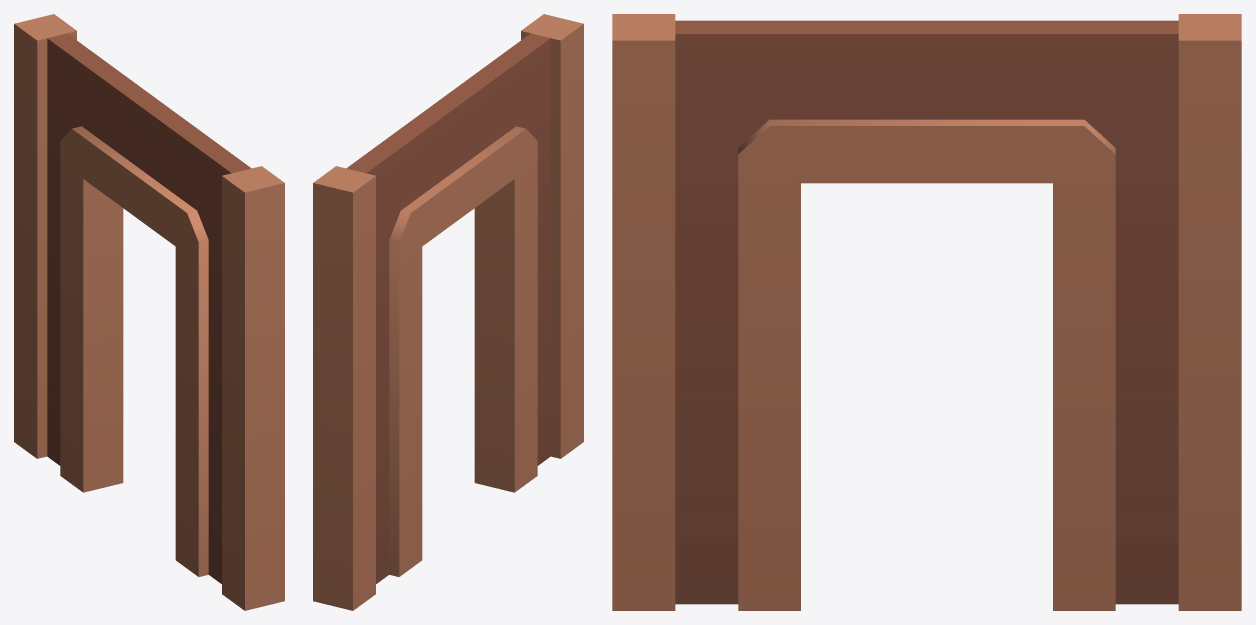
The model's file is wall-wood-doorway-square.glb.
The picture shows the model from 3 angles, left to right: view 1: azimuth 30°, elevation 25°; view 2: azimuth 150°, elevation 25°; view 3: azimuth 270°, elevation 25°; orthographic projection. The views are drawn at different scales.
Parts seen in each view (by area): view 1: wall-wood-doorway-square; view 2: wall-wood-doorway-square; view 3: wall-wood-doorway-square.
Part boxes in pixels (x1,y1,x2,y2): wall-wood-doorway-square: (14,14,284,610); wall-wood-doorway-square: (313,14,583,610); wall-wood-doorway-square: (612,14,1241,610).
Bounding box in the file's own units: 0.1 × 1 × 1.
1 material, 1 textured.
